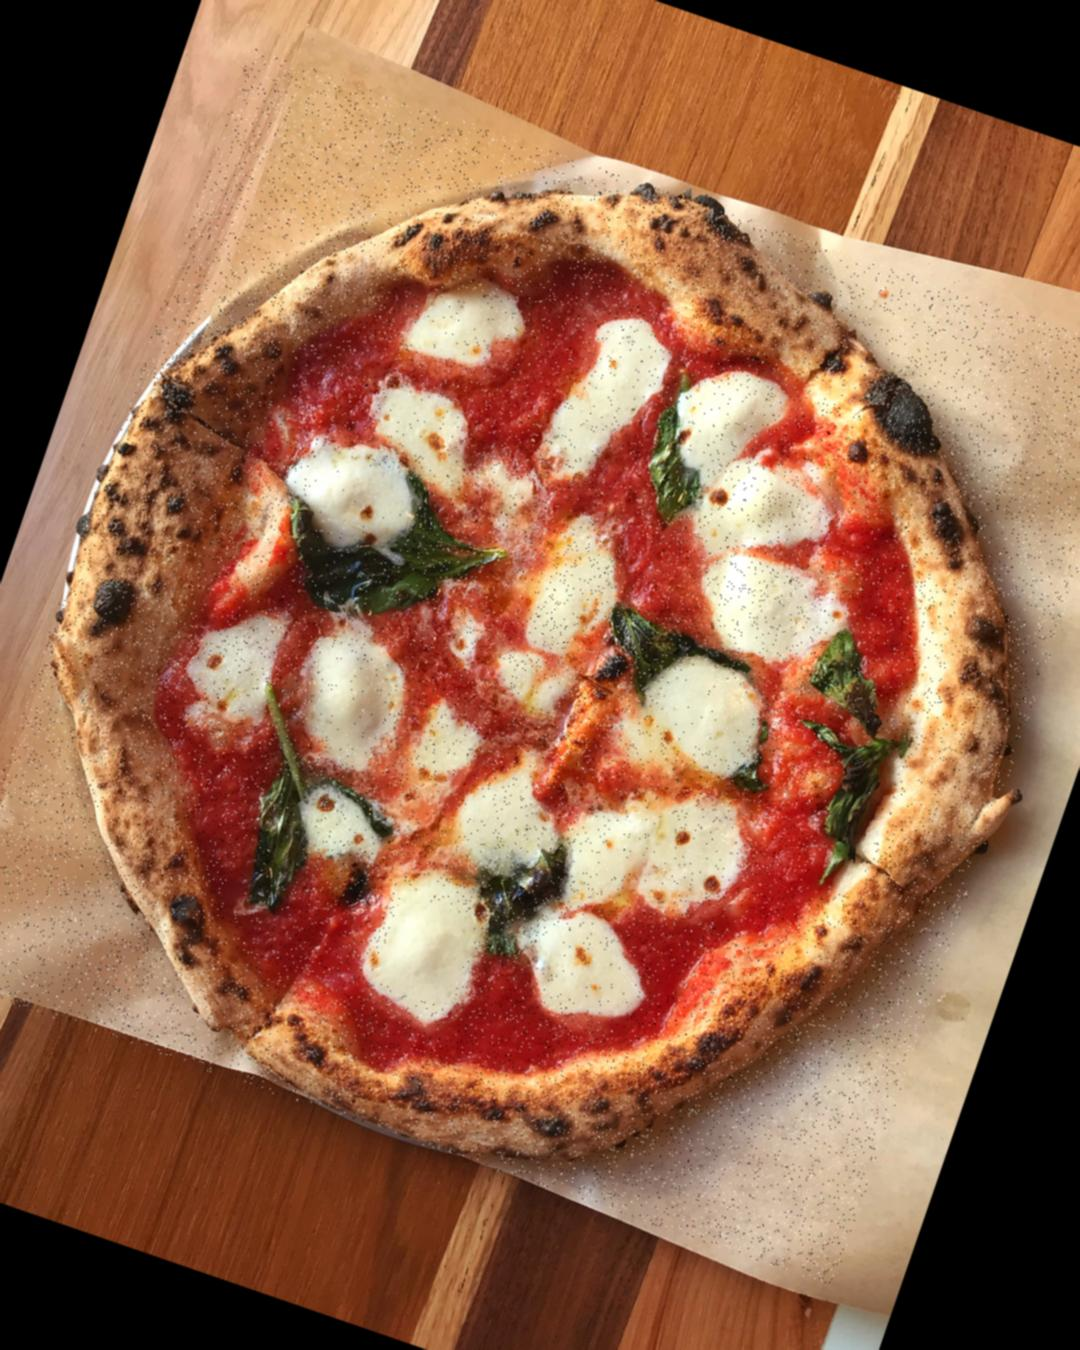Basil: (262, 514, 443, 637), (802, 731, 907, 899), (224, 774, 326, 925), (475, 832, 570, 964), (800, 626, 910, 739), (628, 403, 721, 532), (590, 602, 692, 704), (400, 490, 510, 582)
Cheese: (575, 784, 728, 925), (550, 325, 662, 482), (296, 449, 423, 552), (372, 893, 477, 1006), (709, 559, 820, 659), (655, 668, 762, 762), (706, 458, 808, 557), (412, 277, 516, 370), (305, 650, 398, 755), (529, 539, 616, 650), (530, 928, 637, 1015), (370, 388, 471, 473), (680, 381, 767, 473), (205, 631, 280, 712), (468, 790, 546, 864)
Pizza: (0, 47, 1080, 1286)
